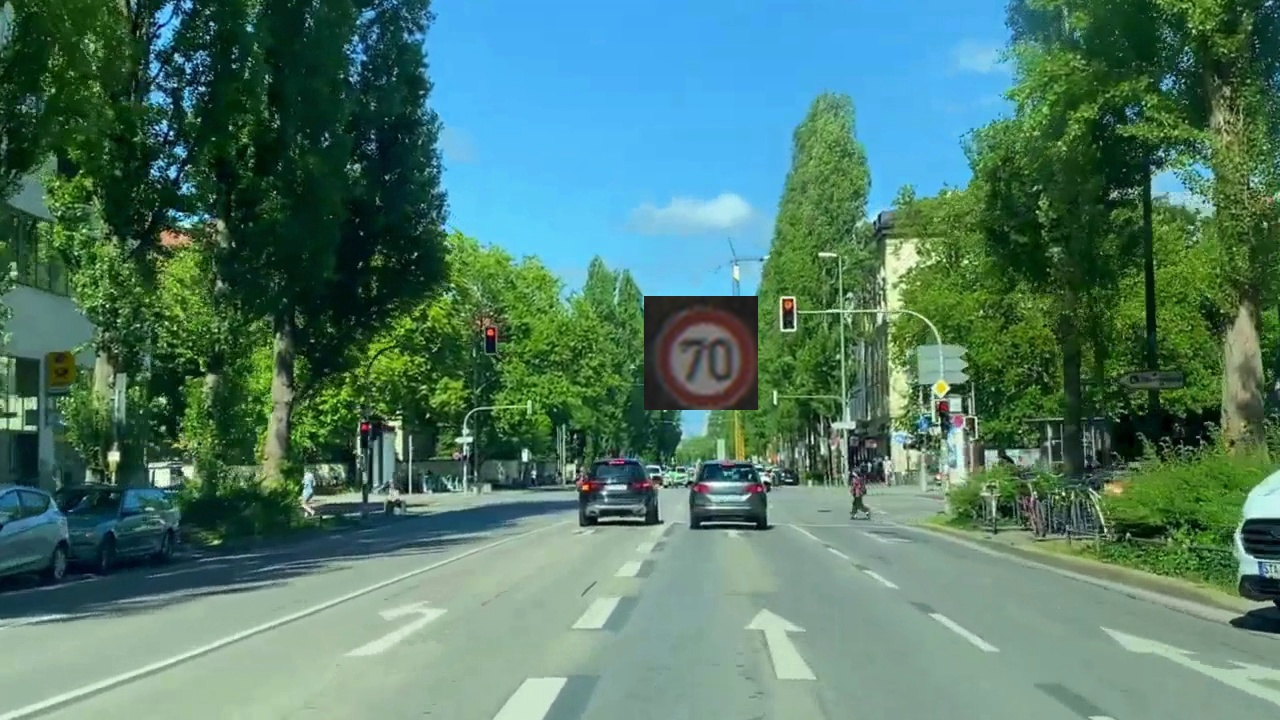Speed 70: (644, 296, 758, 410)
